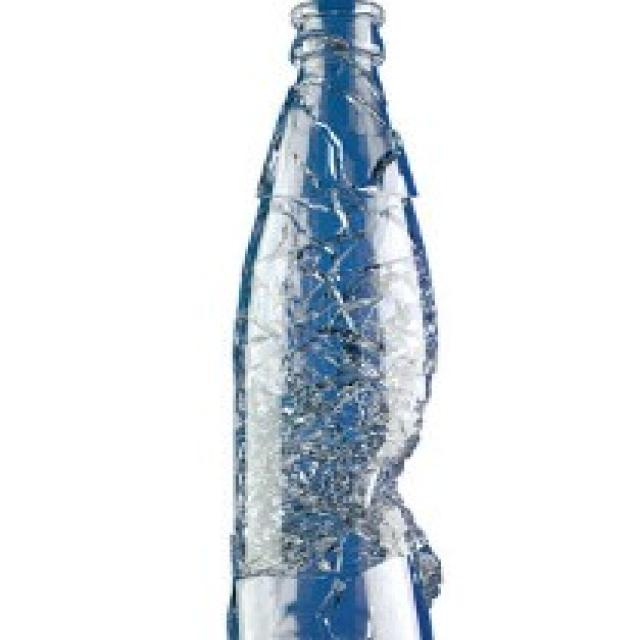electronic: (227, 0, 448, 640)
